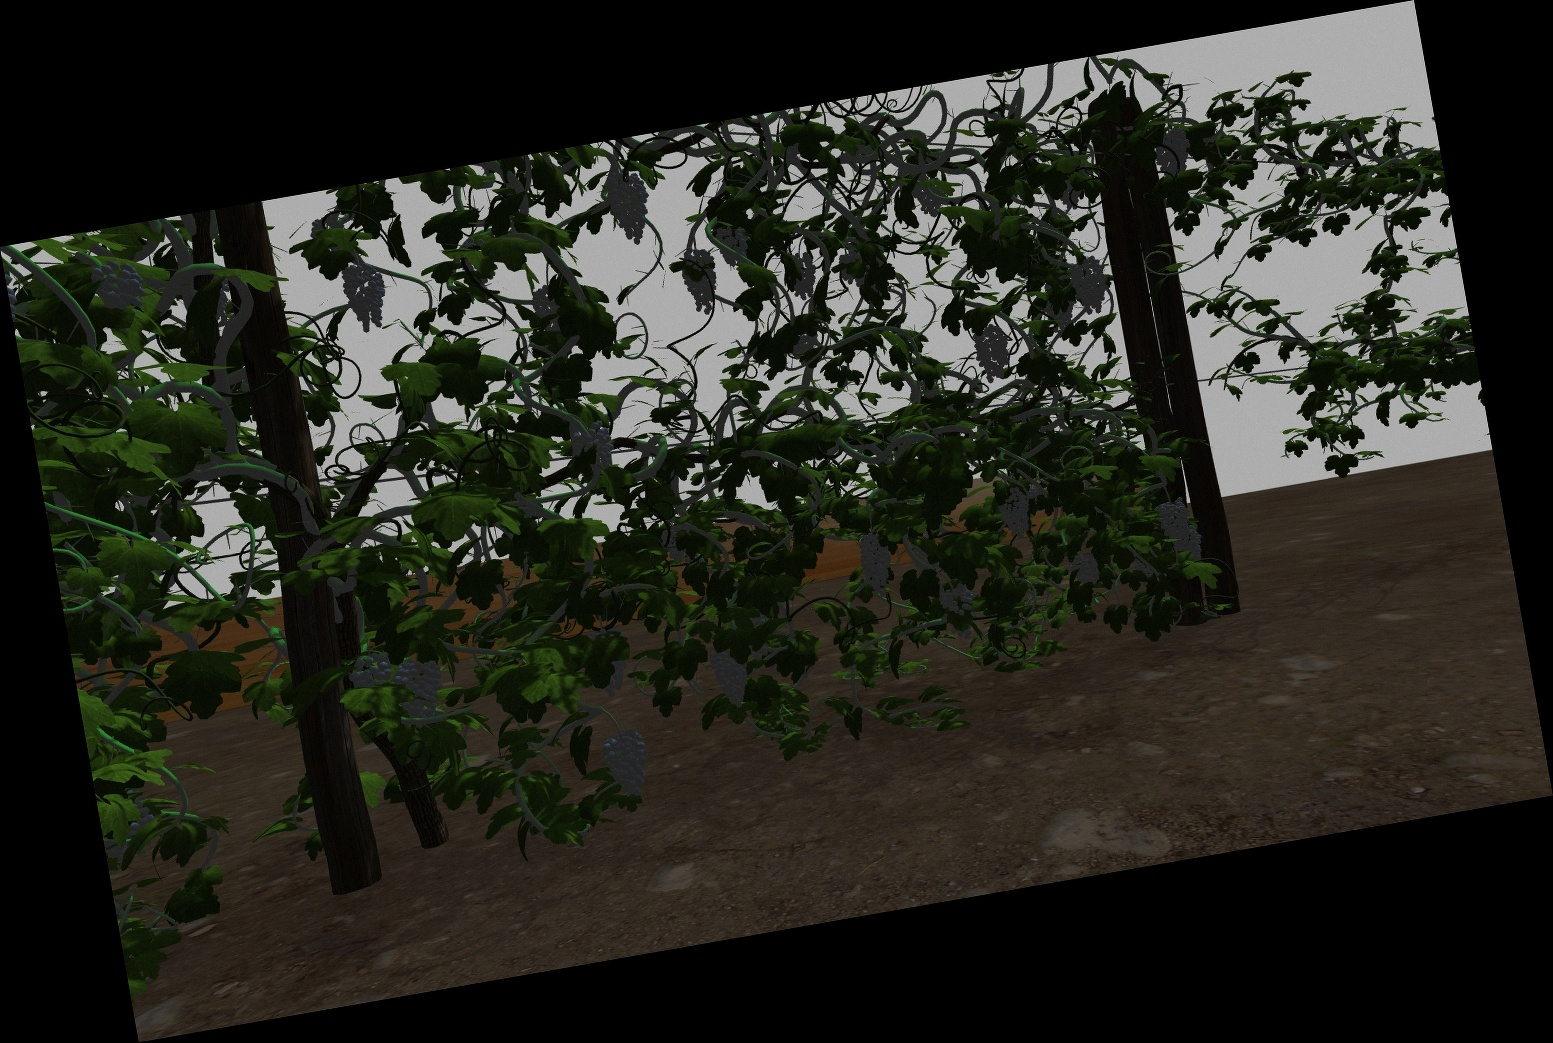grape: (605, 168, 648, 246), (395, 659, 441, 728), (607, 731, 648, 799), (712, 643, 753, 710), (680, 249, 721, 315), (346, 264, 384, 334), (570, 421, 614, 482), (1068, 255, 1109, 317), (88, 258, 139, 308), (973, 322, 1015, 382), (1153, 128, 1194, 184), (859, 532, 892, 593), (1000, 487, 1034, 538), (914, 175, 950, 218), (786, 253, 817, 300), (716, 223, 749, 269), (348, 654, 390, 688), (1160, 499, 1189, 540), (1172, 532, 1205, 567), (1071, 551, 1100, 588), (941, 584, 976, 613)
